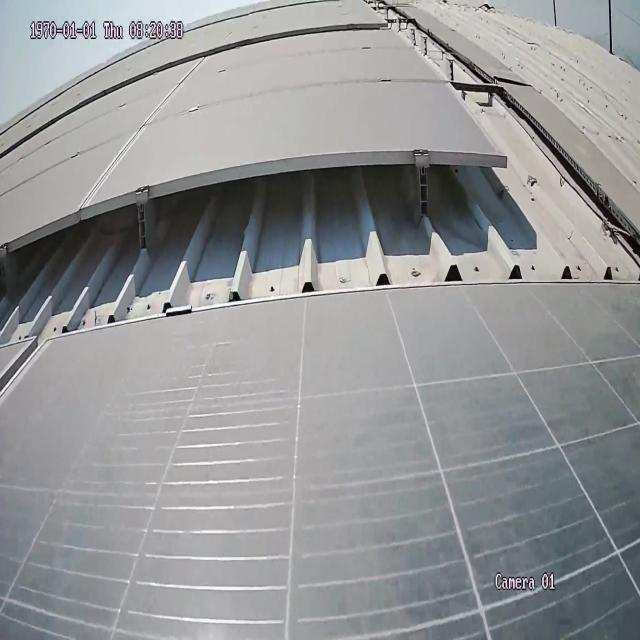interior panel: (62, 54, 218, 210), (0, 336, 63, 417)
outher panel: (0, 0, 640, 346)
